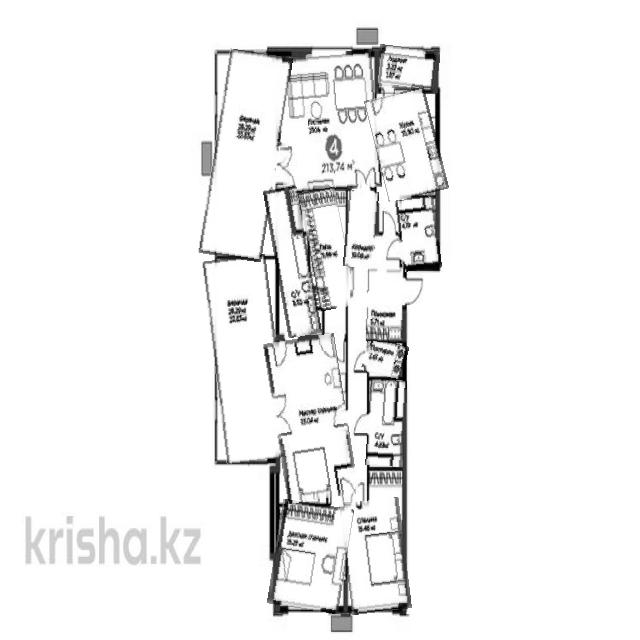balcony: (376, 46, 439, 92)
bathroom: (270, 186, 316, 338), (367, 379, 406, 467), (396, 197, 440, 271), (363, 340, 407, 378)
hallway: (350, 268, 404, 342), (344, 189, 378, 268)
kitchen: (370, 89, 444, 200)
living_room: (275, 51, 380, 193), (269, 336, 353, 502), (271, 502, 350, 612), (342, 499, 409, 613)
other: (207, 50, 286, 261), (208, 255, 284, 462), (304, 188, 352, 310)
